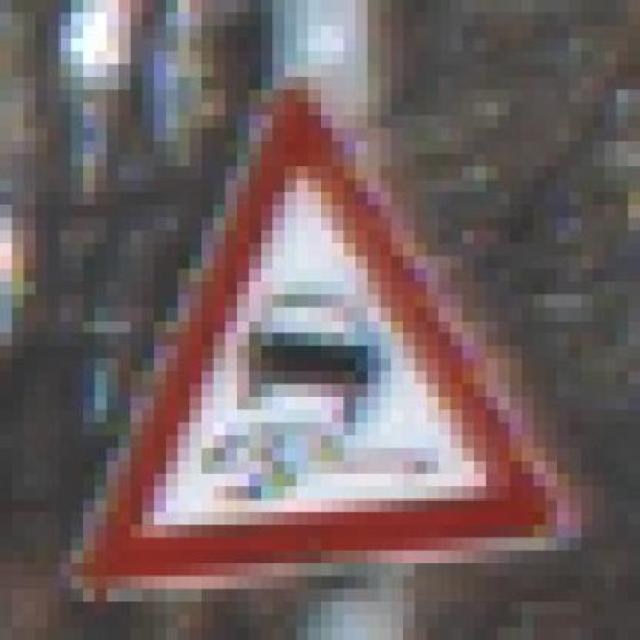Slippery Road Ahead: (48, 64, 604, 602)
